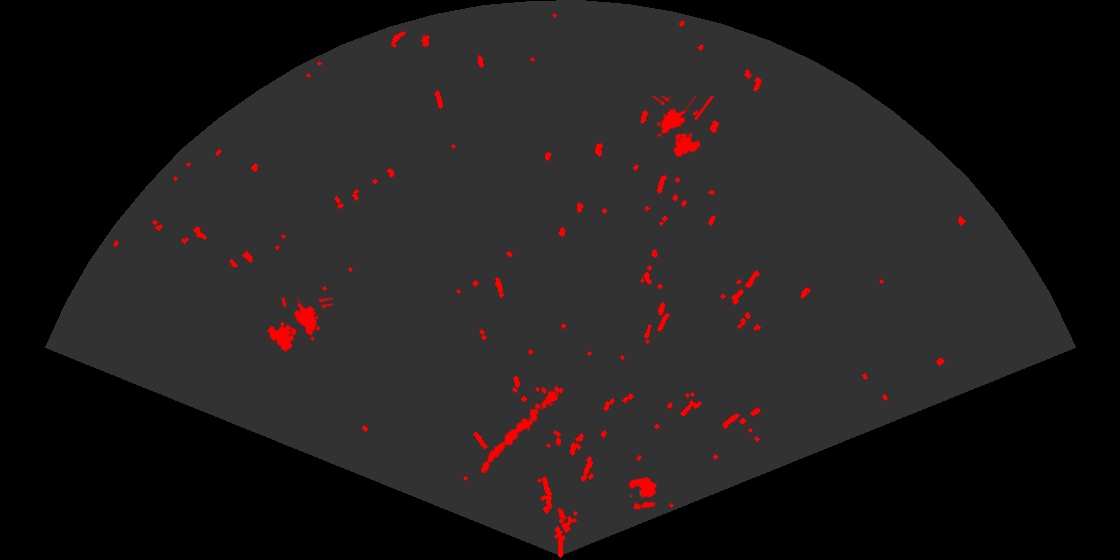ball: (627, 476, 658, 511)
cage: (650, 96, 716, 158), (265, 298, 333, 353)
chain: (479, 389, 560, 475)
